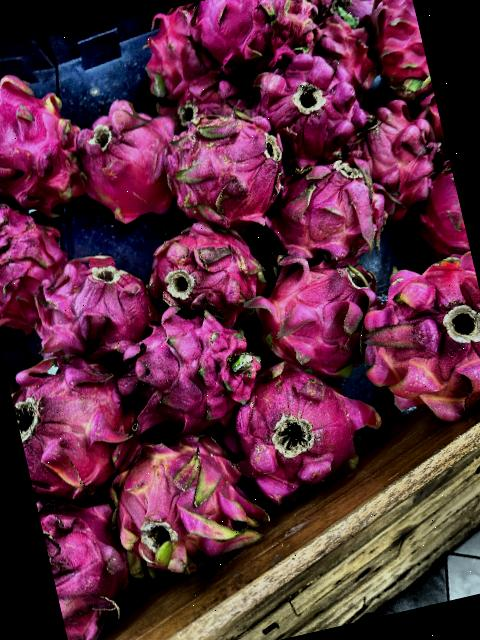buah-naga-belum-matang: (111, 424, 258, 578), (357, 248, 480, 427)
buah-naga-matang: (224, 352, 386, 498), (4, 336, 147, 496), (154, 91, 292, 232), (114, 302, 264, 428), (34, 477, 142, 640), (20, 245, 162, 365), (60, 90, 185, 226), (138, 202, 275, 326), (253, 244, 376, 372), (248, 34, 364, 163), (338, 86, 448, 218), (0, 63, 86, 217), (266, 157, 384, 266), (185, 0, 328, 78), (0, 188, 69, 311), (304, 0, 382, 94), (128, 8, 211, 90), (361, 0, 431, 94), (162, 64, 241, 126)
